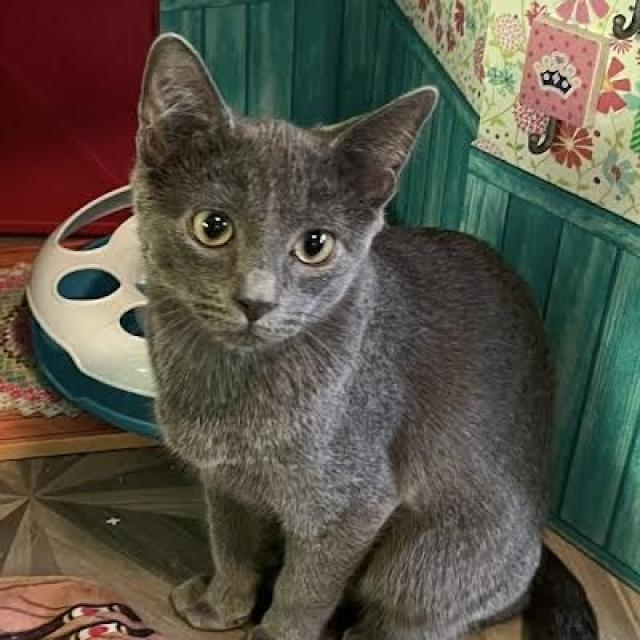russian_blue_cat: (116, 20, 453, 402)
